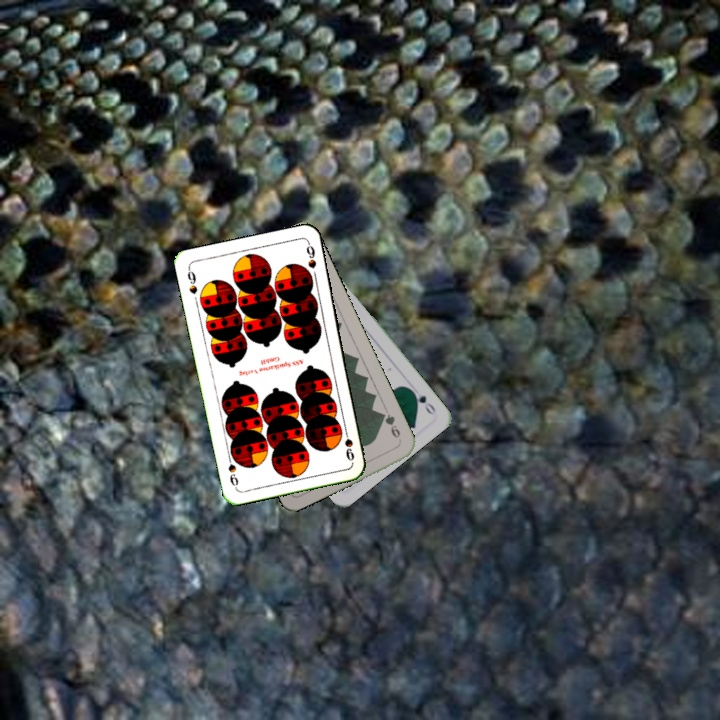G9: (377, 409, 404, 444)
GO: (406, 385, 438, 417)
S9: (340, 424, 357, 464), (183, 264, 200, 297)
